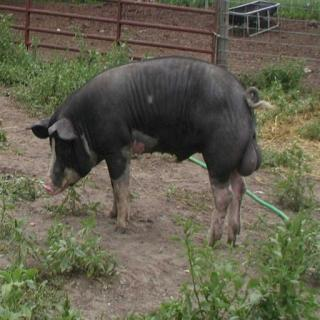Pig: (36, 52, 262, 248)
